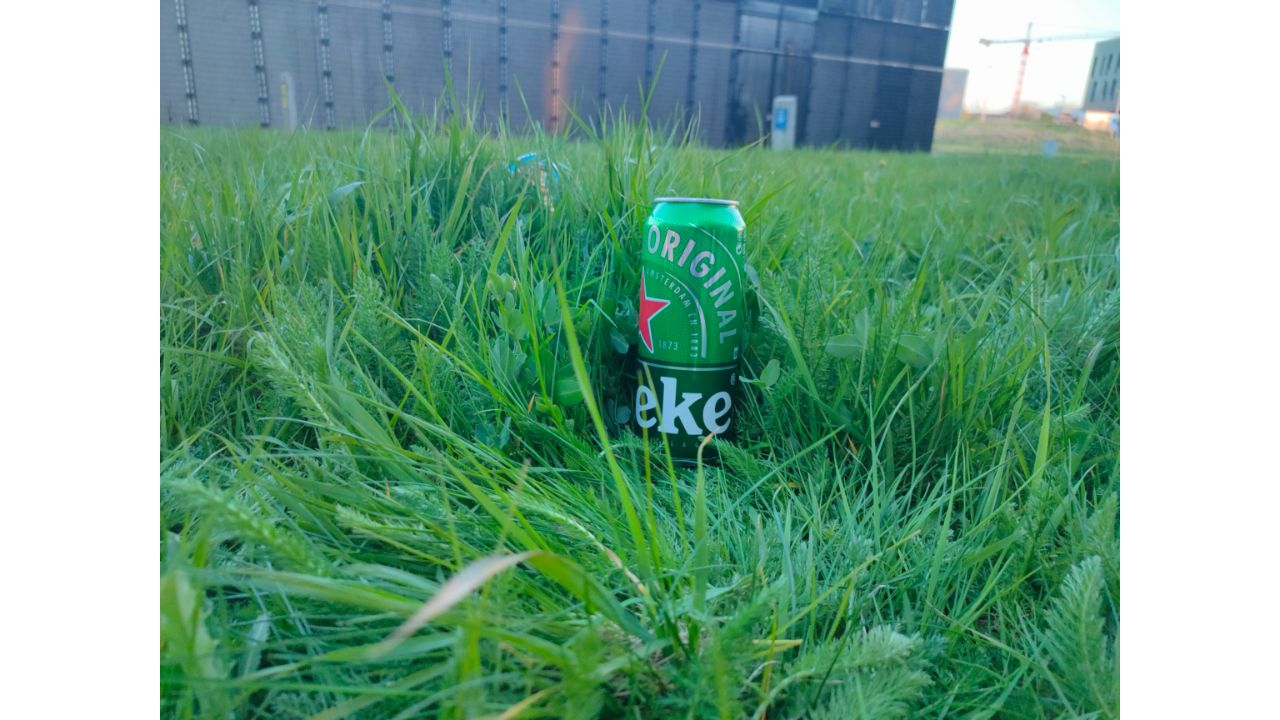Can: (631, 191, 753, 466)
